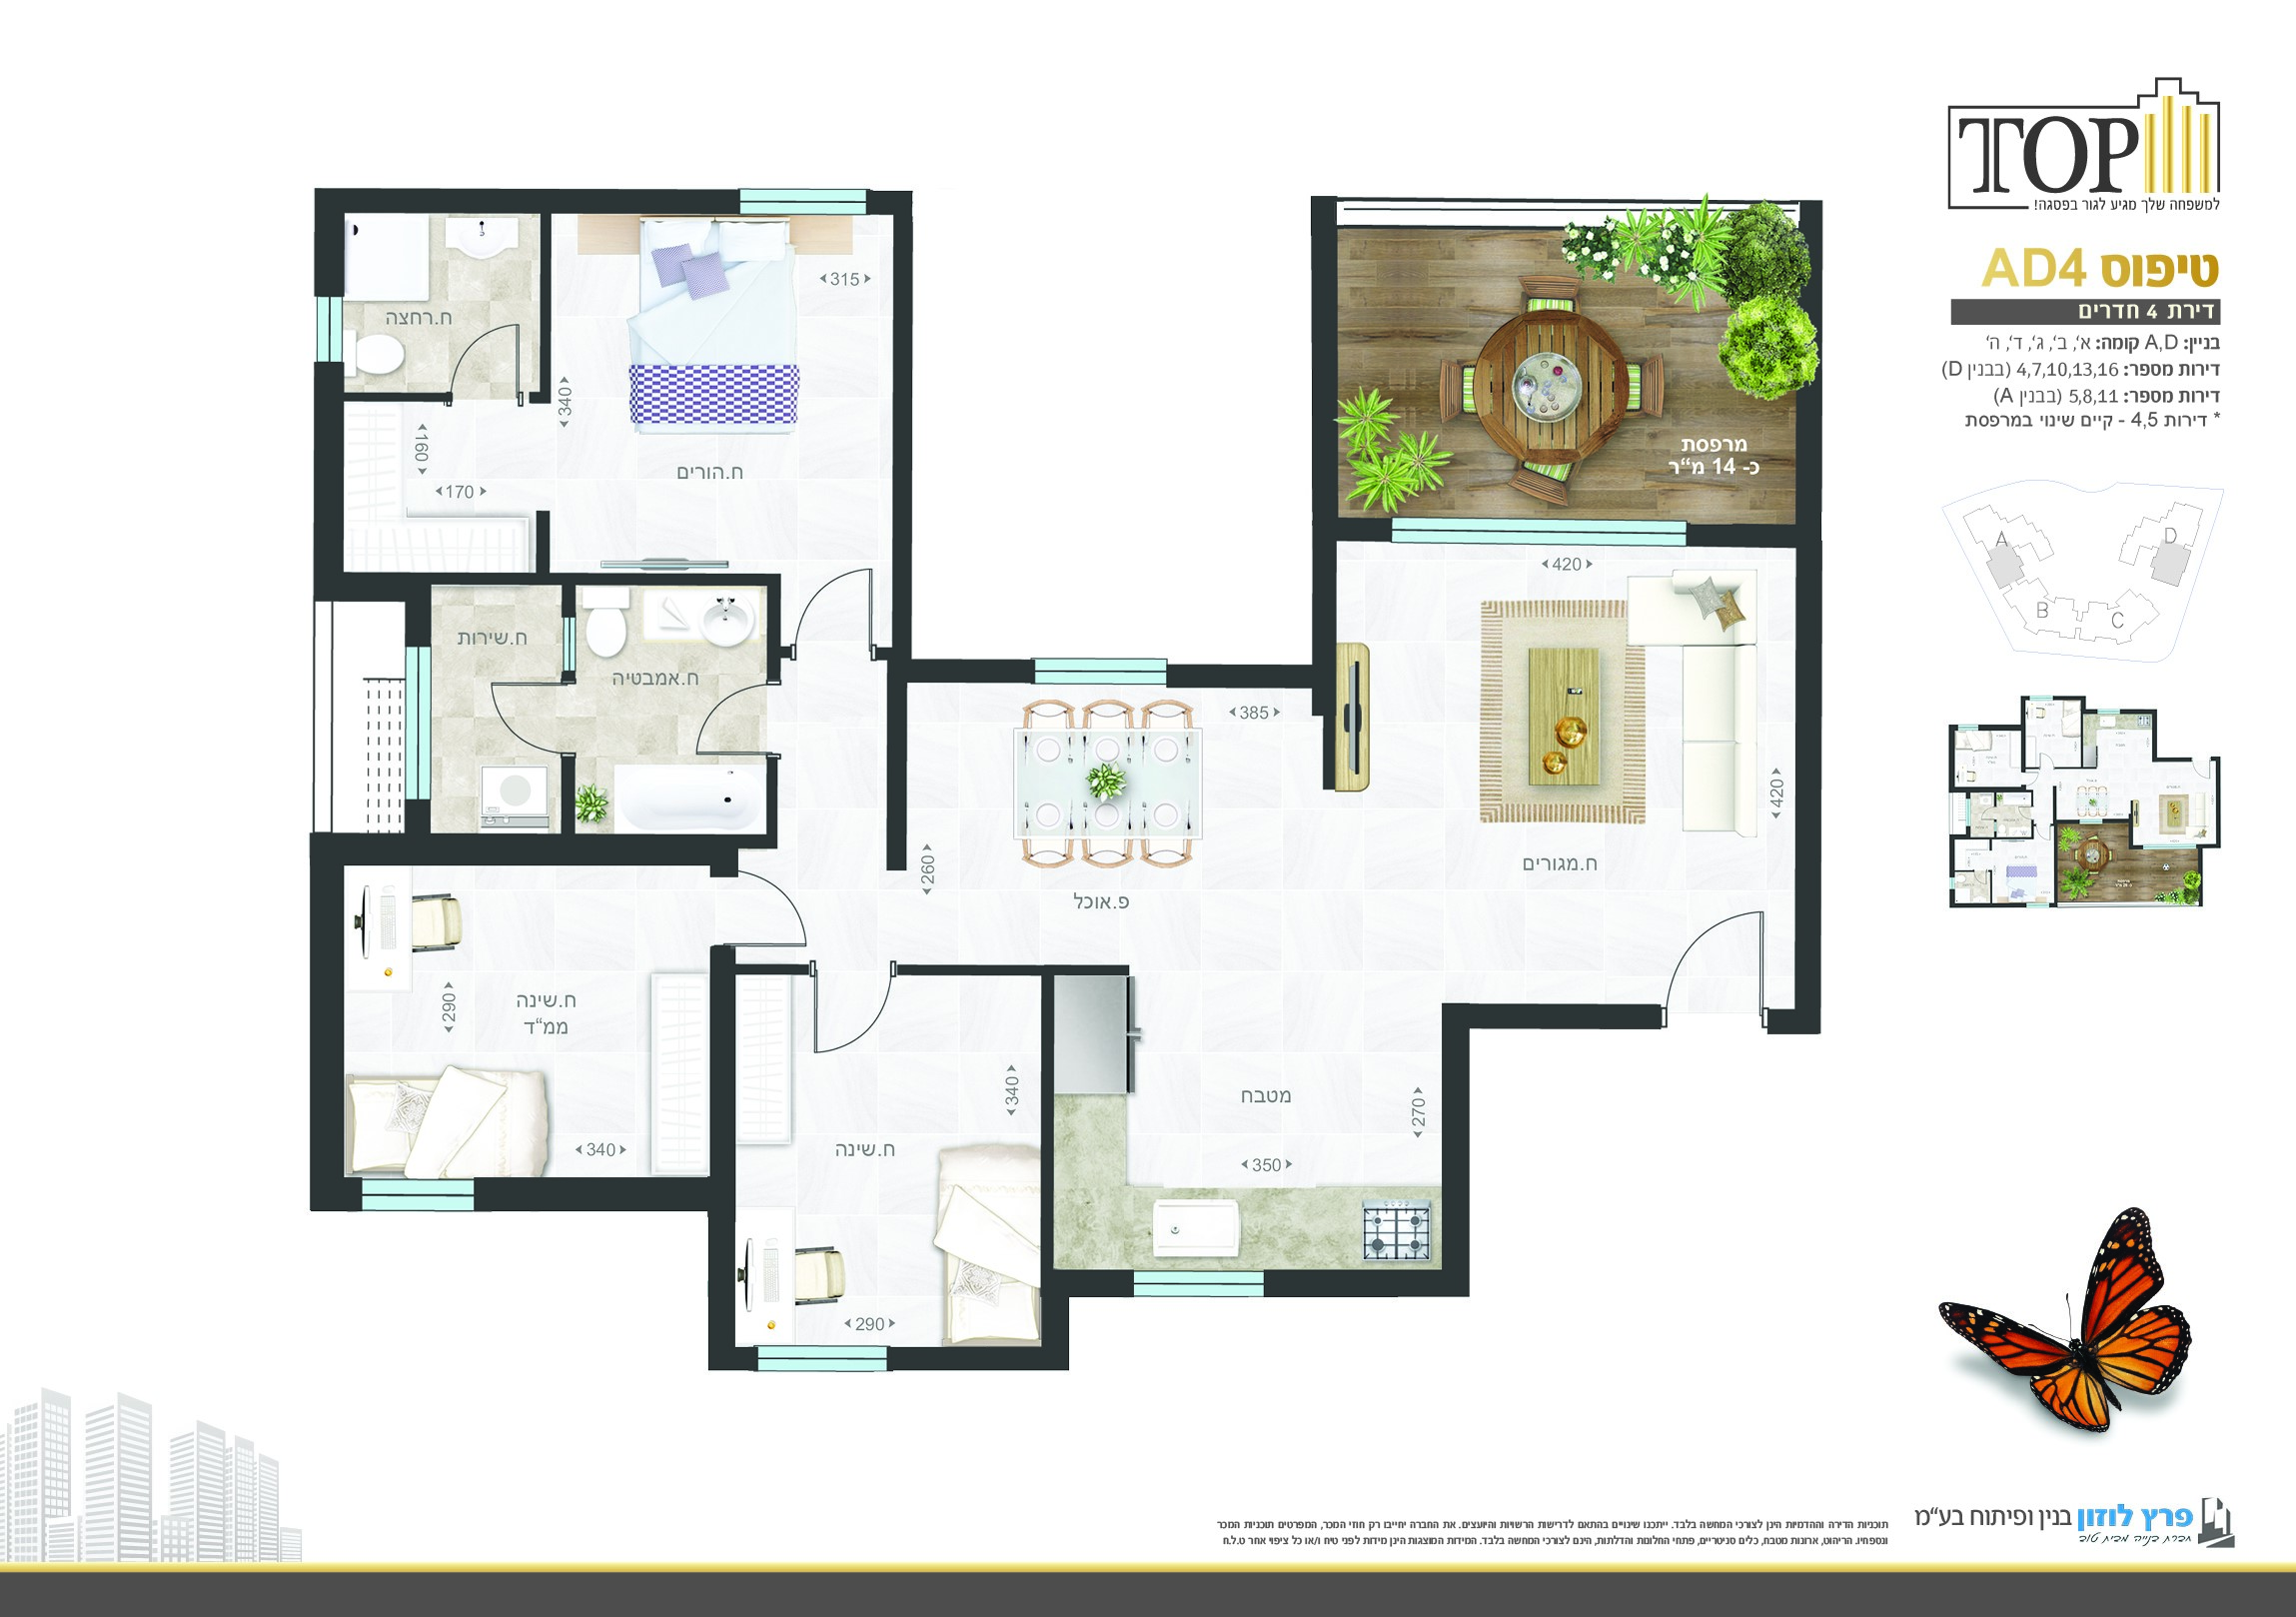door: (1661, 905, 1777, 992), (799, 546, 894, 637), (797, 989, 904, 1060), (474, 674, 560, 751), (754, 870, 820, 959), (455, 306, 535, 374)
wall: (1796, 387, 1822, 1050), (1313, 199, 1341, 721), (894, 192, 913, 870), (712, 945, 740, 1379), (313, 836, 343, 1214), (488, 1179, 738, 1214), (1439, 1001, 1464, 1295), (1259, 1269, 1458, 1302), (1042, 964, 1054, 1375)
window: (1394, 514, 1691, 546), (1131, 1263, 1263, 1316), (754, 1339, 887, 1374), (1033, 660, 1161, 689), (367, 1179, 477, 1211), (740, 187, 867, 212)
